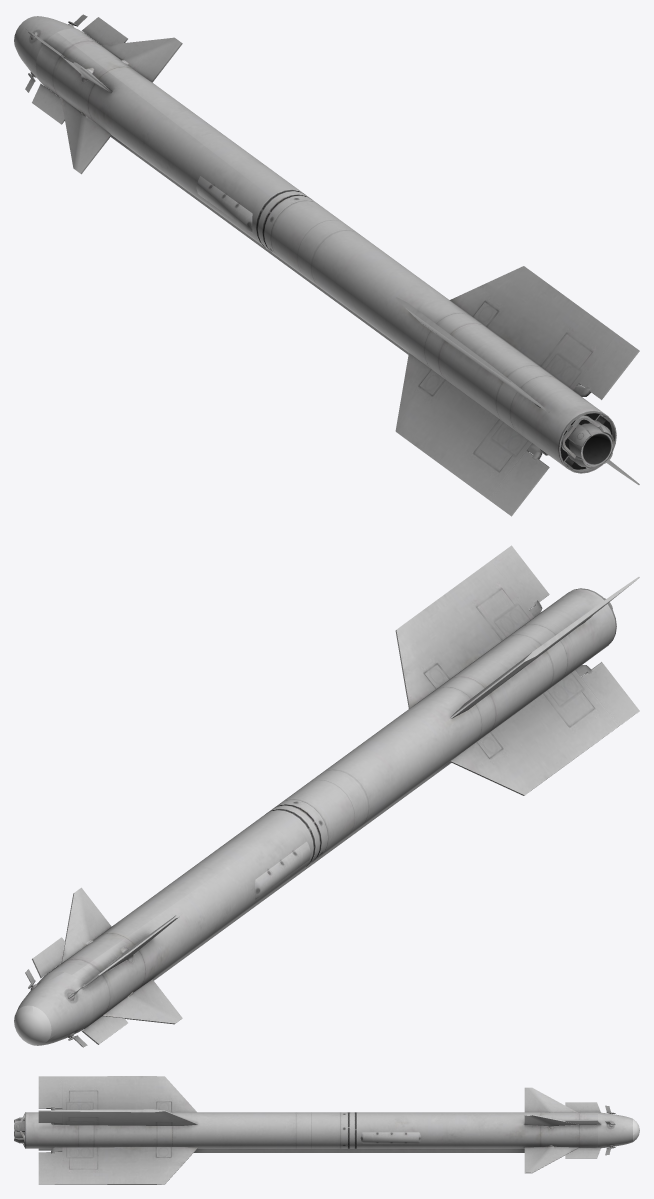
File: aam_r73.glb
3 views of the same model, one above another, from view 1: azimuth 30°, elevation 25°; view 2: azimuth 150°, elevation 25°; view 3: azimuth 270°, elevation 25° (orthographic). The views are drawn at different scales.
Visible parts, largest first — view 1: body|w_qaam_r0-Mat; view 2: body|w_qaam_r0-Mat, body|w_qaam_r0-Glass; view 3: body|w_qaam_r0-Mat.
Part boxes in pixels (box(x1,y1,x2,y2)): body|w_qaam_r0-Mat: box(14, 14, 639, 516); body|w_qaam_r0-Mat: box(16, 545, 639, 1047); body|w_qaam_r0-Glass: box(14, 1005, 51, 1045); body|w_qaam_r0-Mat: box(14, 1076, 632, 1184).
Bounding box in the file's own units: 0.3883 × 0.3883 × 2.92.
2 materials, 1 textured.
